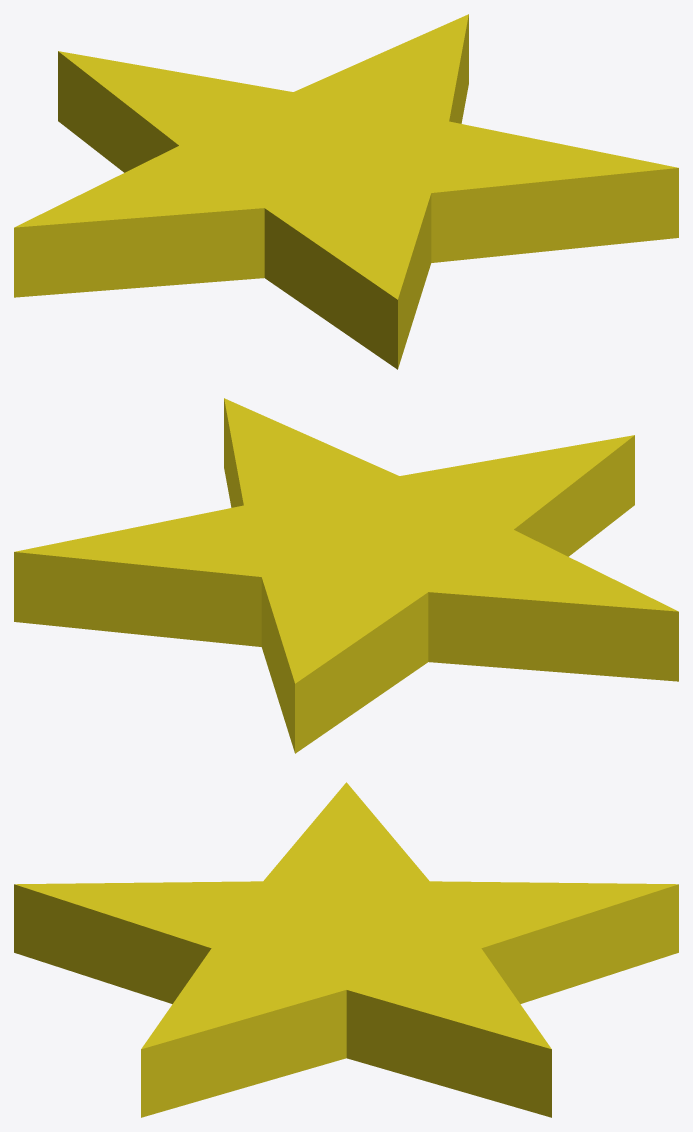
File: Stars Model.fbx
3 renders of one model, top to bottom at view 1: azimuth 30°, elevation 25°; view 2: azimuth 150°, elevation 25°; view 3: azimuth 270°, elevation 25°, orthographic. The views are drawn at different scales.
Parts seen in each view (by area): view 1: Star001; view 2: Star001; view 3: Star001.
Boxes of the visible parts, box(x1,y1,x2,y2) form: Star001: box(14, 14, 678, 369); Star001: box(14, 398, 678, 753); Star001: box(14, 782, 678, 1117).
Size of the model in its own units: 450 by 53.8 by 473.
